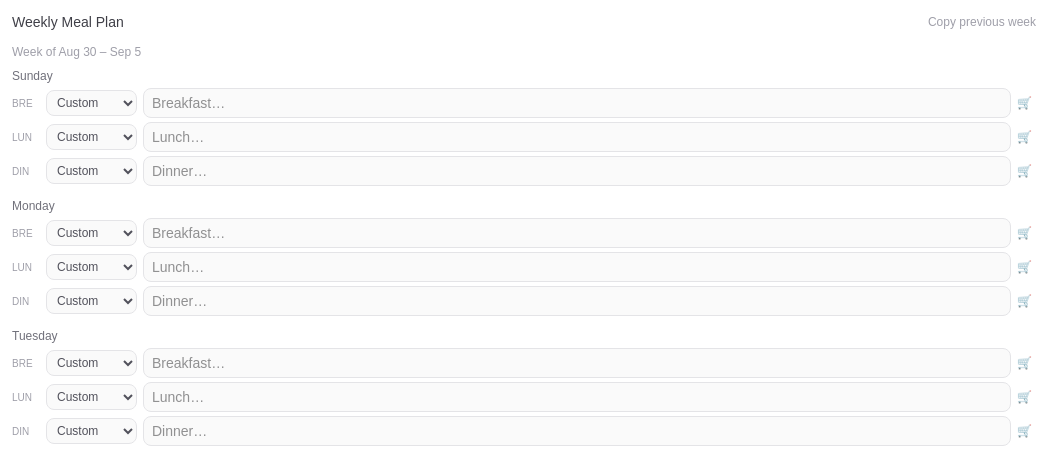
it: MealPlanSection › requires a meal description before parsing ingredients
The image size is (1048, 469).
What coordinates should you click on to do the following:
click the 3rd button "🛒"
I would click on:
 (1024, 171)
Its box is [1017,163,1032,179].
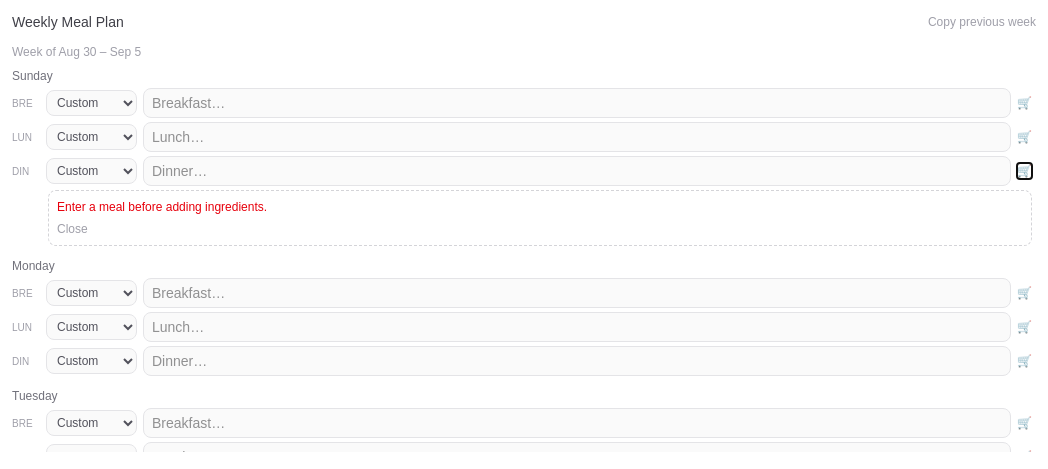
Expected: the message reads "Enter a meal before adding ingredients.", [57,200,267,214]
